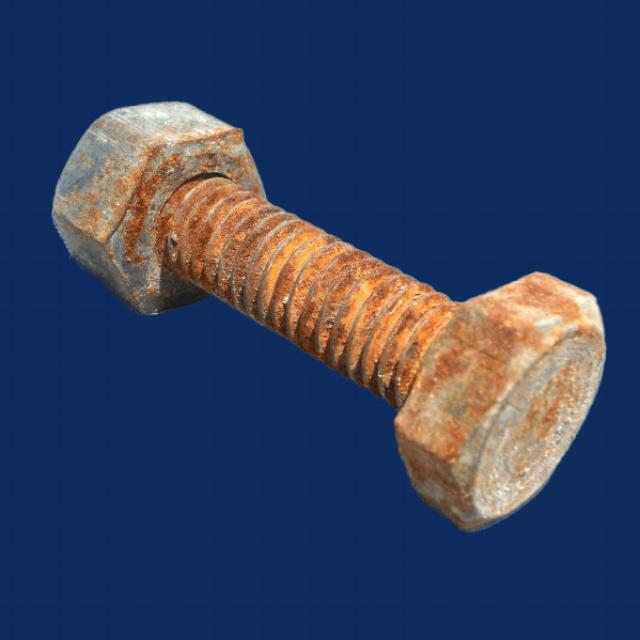Uniform Corrosion: (53, 104, 603, 530)
